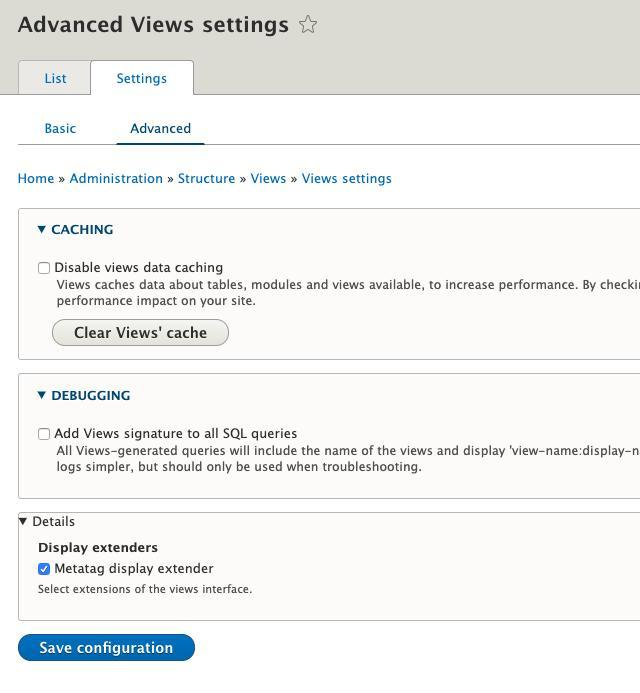button: (18, 634, 197, 663), (52, 319, 230, 348), (92, 61, 195, 98)
checkbox: (38, 564, 52, 577), (39, 262, 51, 276), (38, 429, 51, 441)
label: (54, 426, 301, 442), (54, 259, 227, 276), (55, 562, 217, 575), (130, 122, 194, 137), (43, 123, 79, 135), (42, 71, 68, 87)
